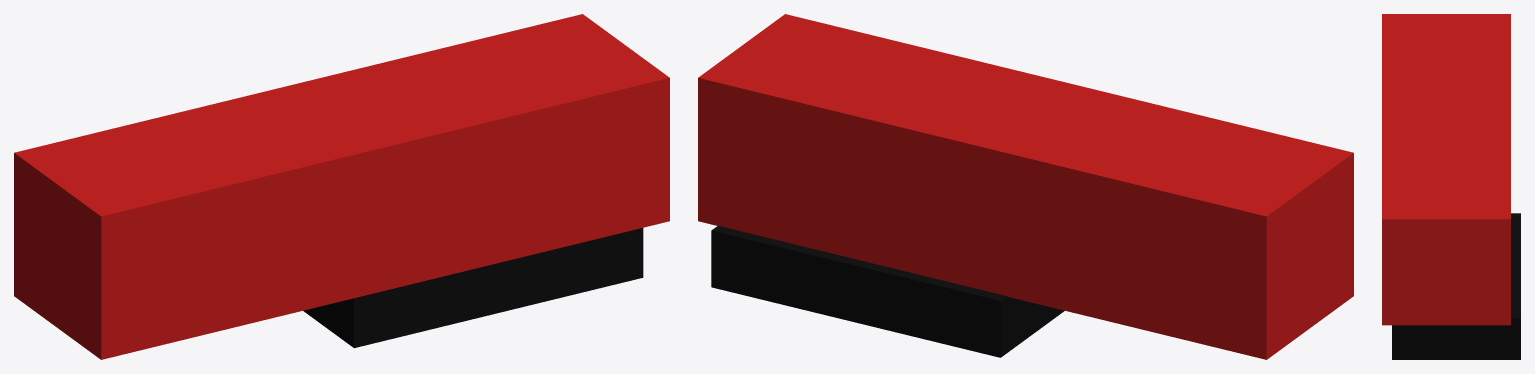
File: truck_back.obj
The picture shows the model from 3 angles, left to right: view 1: azimuth 30°, elevation 25°; view 2: azimuth 150°, elevation 25°; view 3: azimuth 270°, elevation 25°; orthographic projection. The views are drawn at different scales.
Visible parts, largest first — view 1: Cube; view 2: Cube; view 3: Cube.
Boxes of the visible parts, x1,y1,x2,y2 form: Cube: (14, 14, 669, 359); Cube: (698, 14, 1353, 359); Cube: (1382, 14, 1520, 359).
Bounding box in the file's own units: 7.53 × 2.53 × 2.15.
